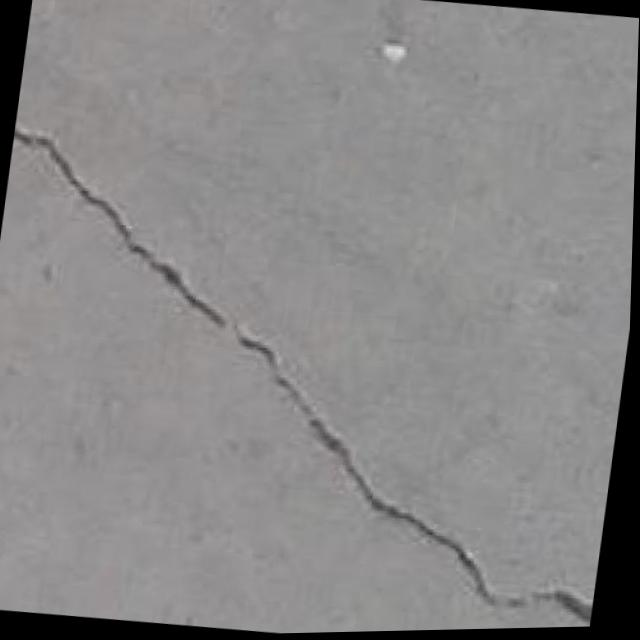Crack: (0, 111, 637, 640)
